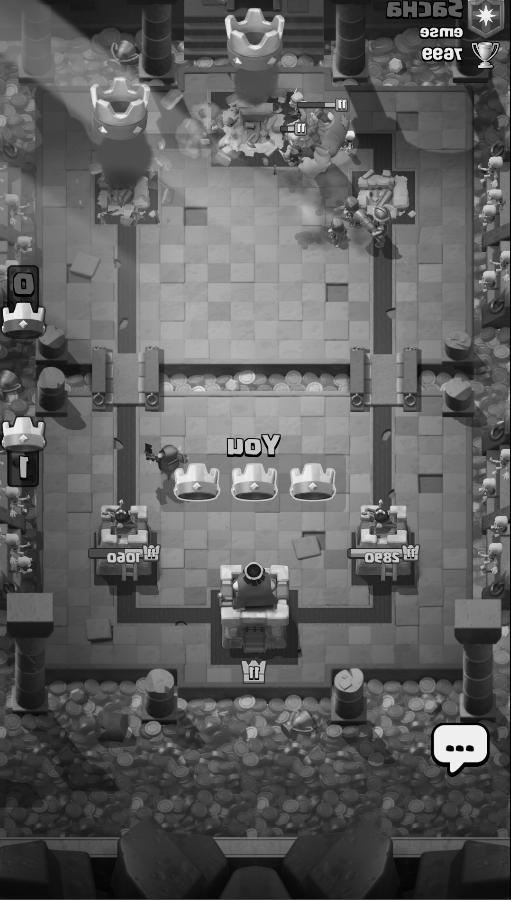archere: (315, 212, 352, 251), (334, 194, 366, 230)
bat: (297, 123, 326, 150), (310, 106, 335, 128)
geant: (275, 101, 359, 189)
gobelin: (271, 126, 310, 166), (280, 91, 311, 123)
mini_PEKKA: (133, 438, 194, 485)
mousquetaire: (350, 201, 402, 253)
squelette: (332, 127, 362, 156)
